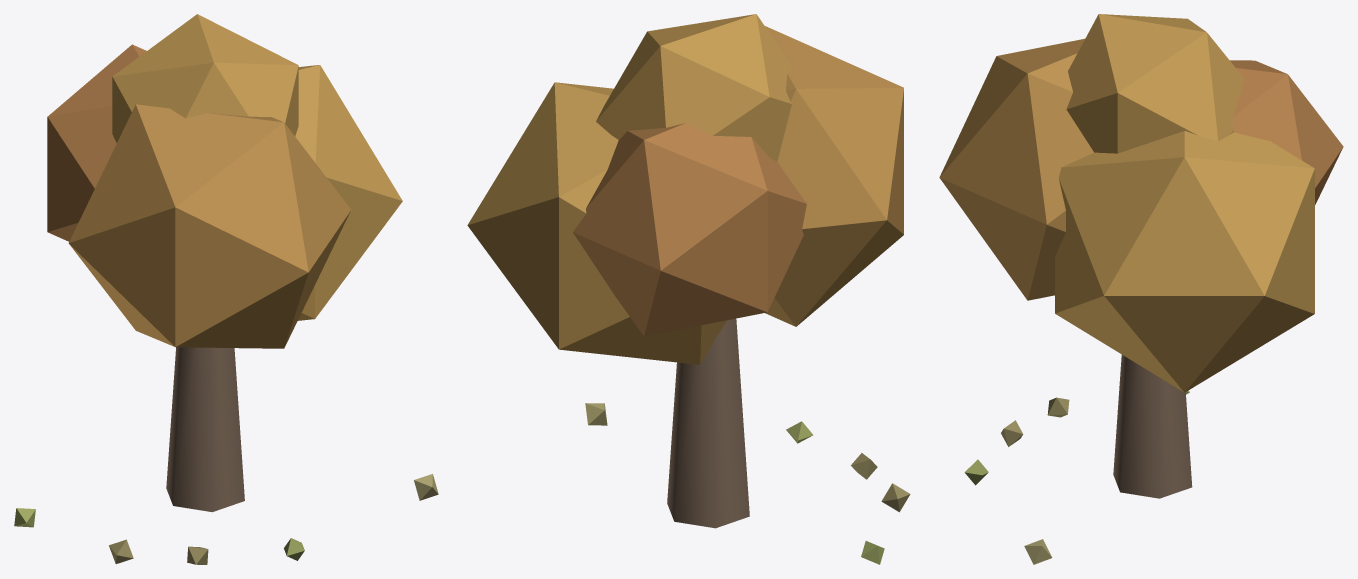
File: castanyer-referencia.glb
3 renders of one model, left to right at view 1: azimuth 30°, elevation 25°; view 2: azimuth 150°, elevation 25°; view 3: azimuth 270°, elevation 25°, orthographic. The views are drawn at different scales.
Parts seen in each view (by area): view 1: castanyer-2, castanyer-5, castanyer-4, castanyer-1, castanyer-3; view 2: castanyer-3, castanyer-4, castanyer-2, castanyer-5, castanyer-1; view 3: castanyer-4, castanyer-2, castanyer-5, castanyer-1, castanyer-3.
Boxes of the visible parts, x1=… form: castanyer-2: x1=68, y1=104, x2=351, y2=348; castanyer-5: x1=112, y1=14, x2=298, y2=142; castanyer-4: x1=295, y1=65, x2=402, y2=320; castanyer-1: x1=166, y1=347, x2=244, y2=512; castanyer-3: x1=47, y1=44, x2=146, y2=241; castanyer-3: x1=573, y1=123, x2=806, y2=336; castanyer-4: x1=467, y1=82, x2=726, y2=364; castanyer-2: x1=765, y1=26, x2=903, y2=326; castanyer-5: x1=596, y1=14, x2=792, y2=161; castanyer-1: x1=667, y1=318, x2=749, y2=528; castanyer-4: x1=1055, y1=131, x2=1314, y2=392; castanyer-2: x1=939, y1=38, x2=1093, y2=300; castanyer-5: x1=1066, y1=14, x2=1244, y2=153; castanyer-1: x1=1113, y1=354, x2=1192, y2=498; castanyer-3: x1=1230, y1=60, x2=1343, y2=204.
Bounding box in the file's own units: 3.44 × 4.3 × 3.42.
